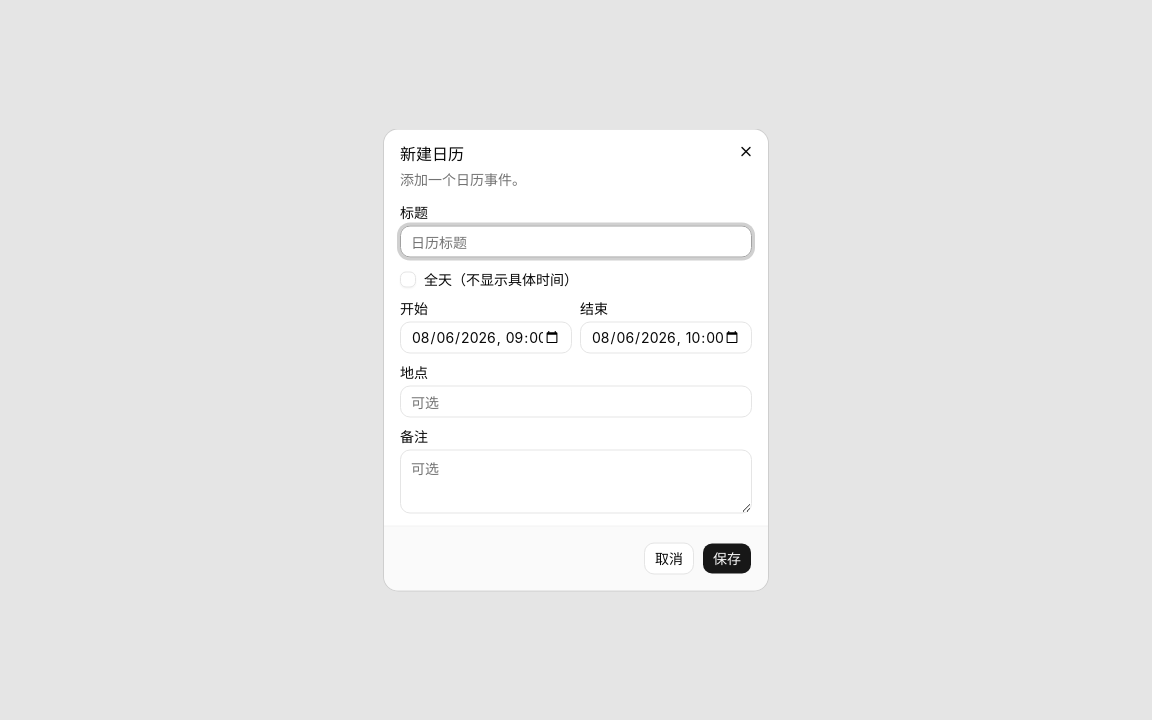
Test case: EventFormDialog › 结束时间早于开始时间时不提交并显示错误
In the field labelled "标题": {"x": 576, "y": 242} [400, 226, 752, 258], type "晨会"
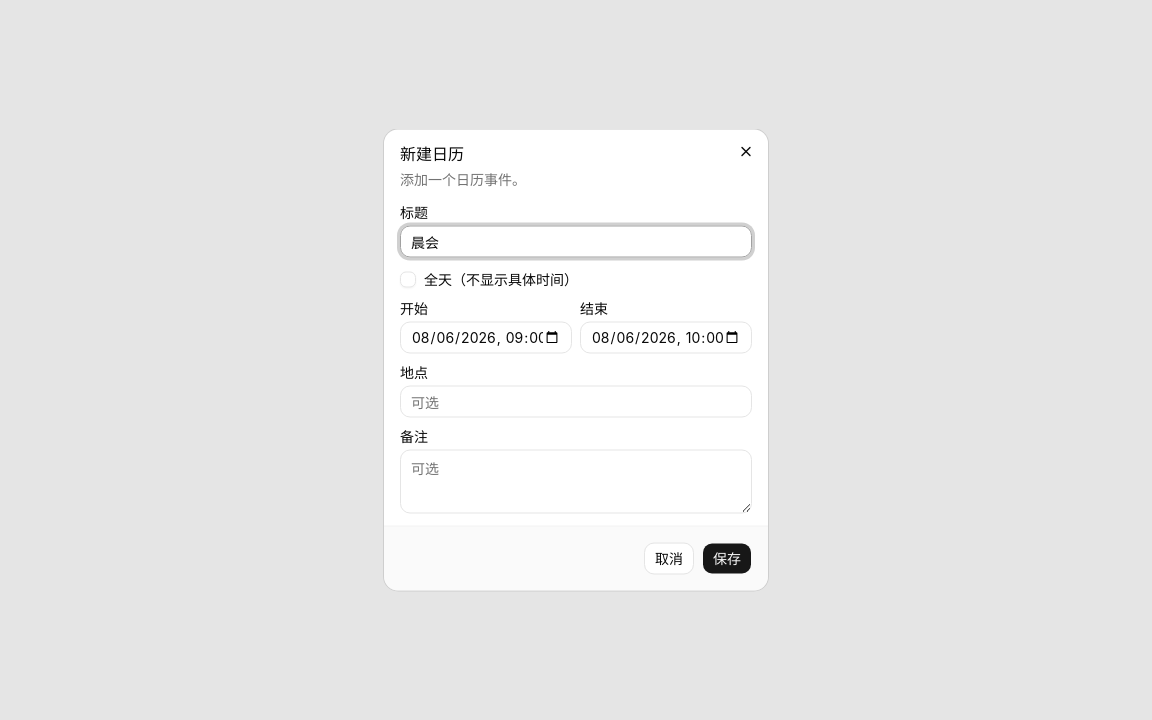
Replace the text in the field labelled "开始" with "2026-08-06T10:00": {"x": 486, "y": 338} [400, 322, 572, 354]
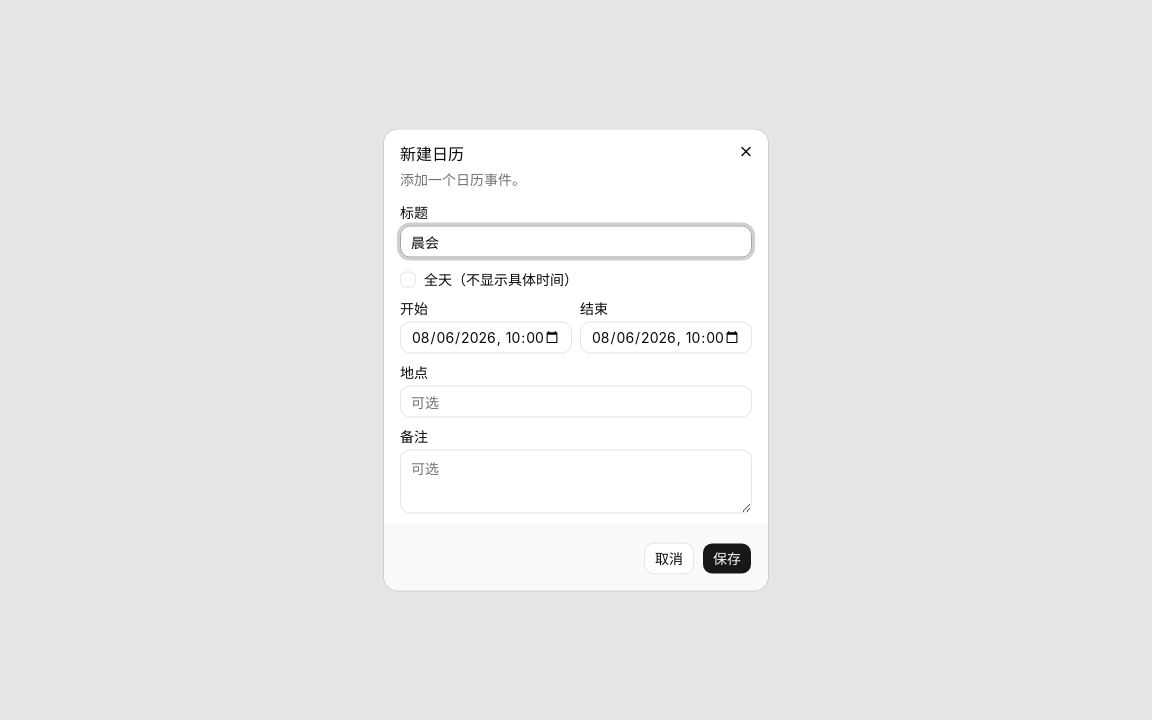
Replace the text in the field labelled "结束" with "2026-08-06T09:00": {"x": 666, "y": 338} [580, 322, 752, 354]
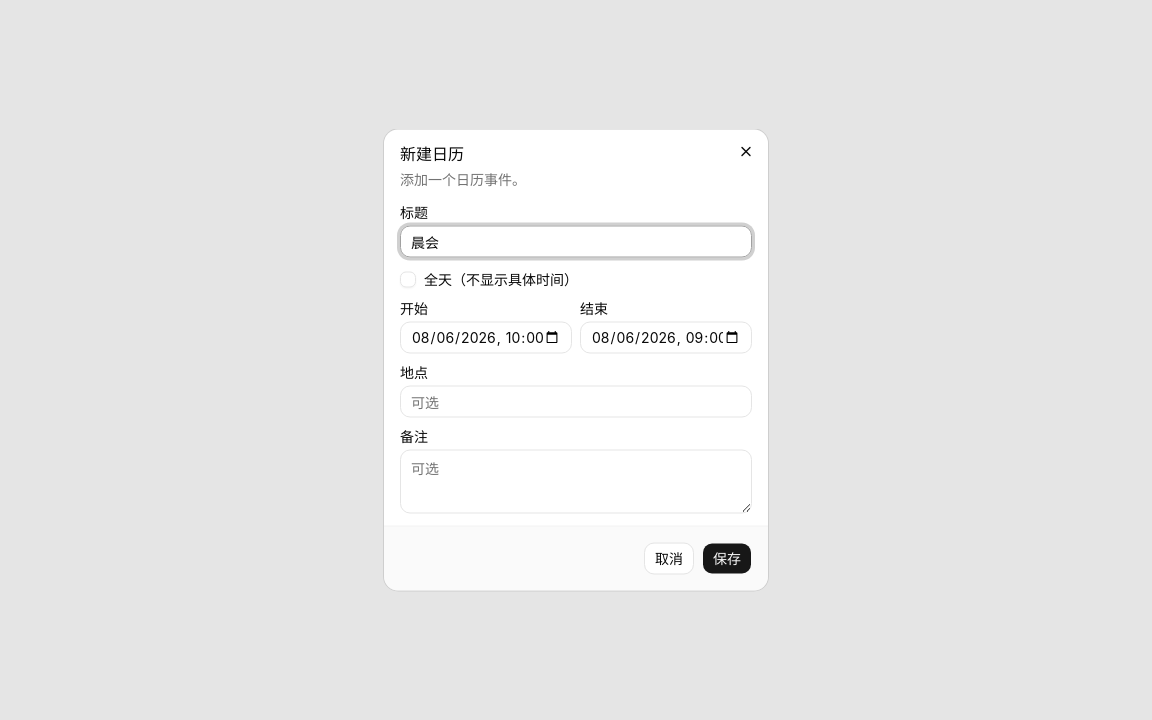
Click the button "保存": {"x": 727, "y": 558} [702, 542, 752, 574]
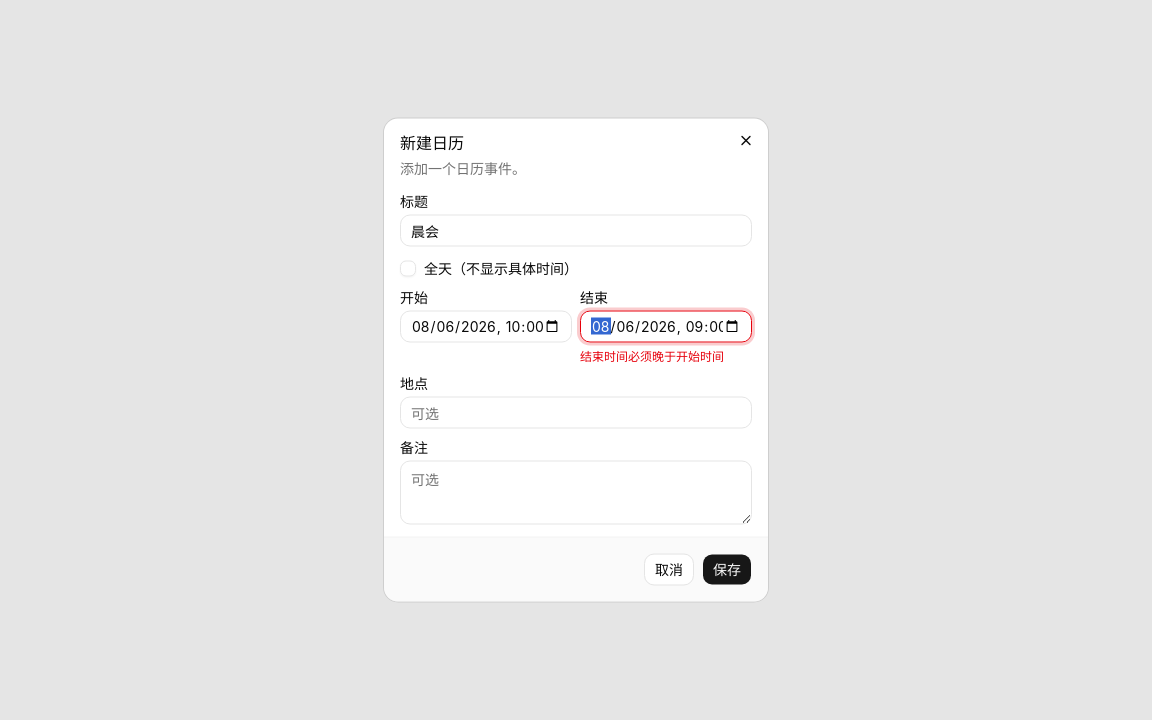
Expected: the text "结束时间必须晚于开始时间" is shown, [580, 348, 724, 364]
